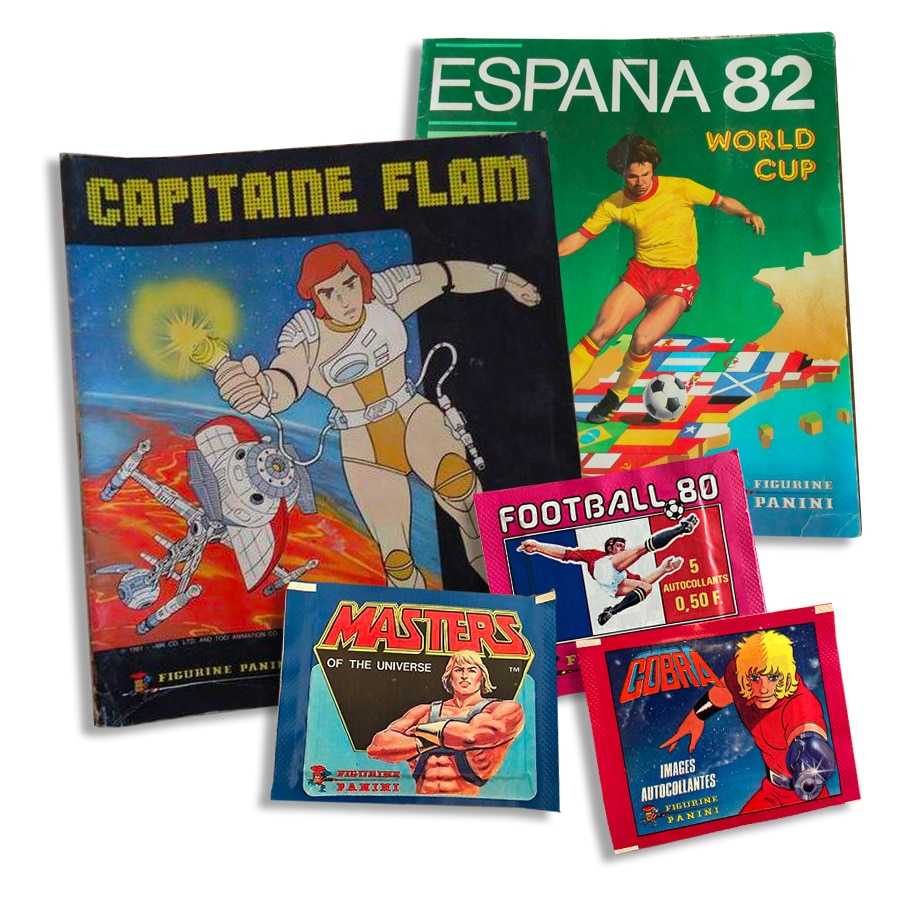Imprimante: (150, 494, 274, 592)
